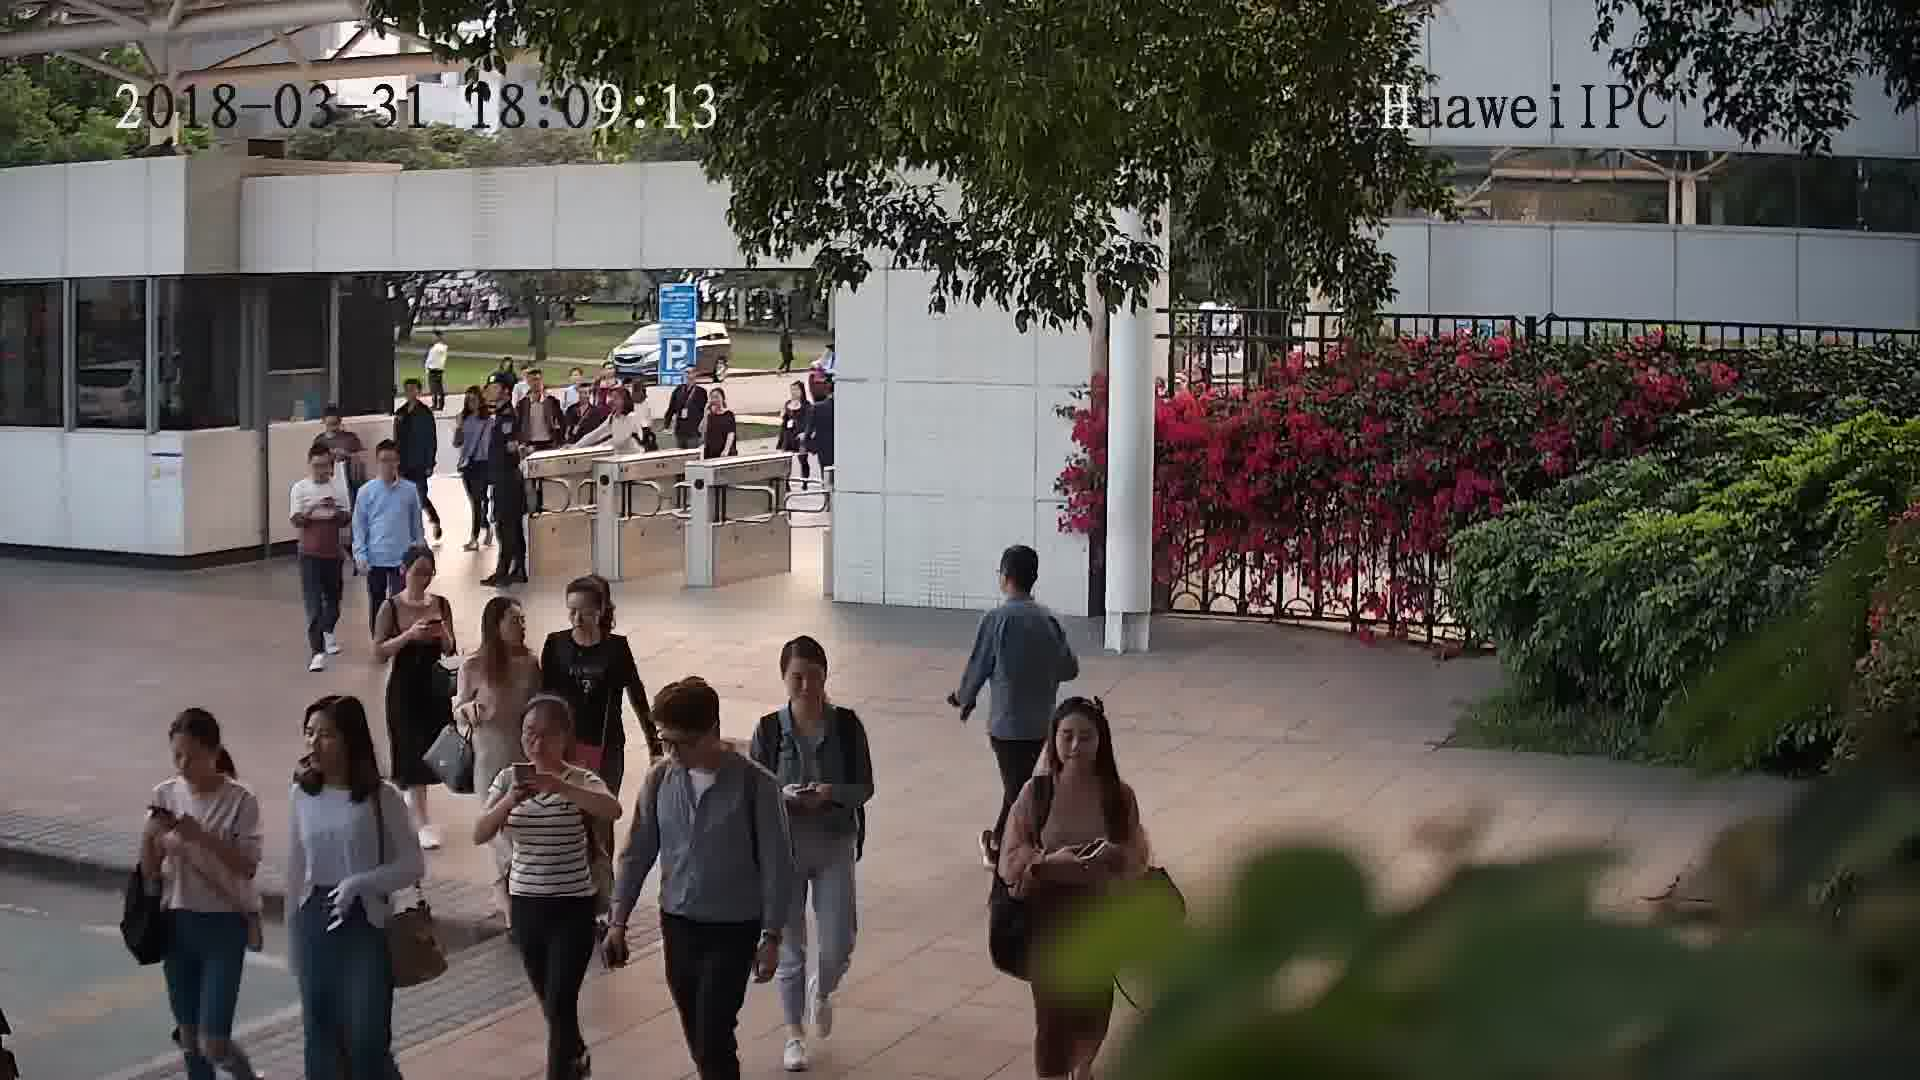face: (294, 708, 358, 772), (656, 714, 713, 771), (163, 726, 221, 784), (1049, 714, 1105, 770), (516, 709, 571, 764), (779, 656, 830, 707), (563, 588, 606, 638)
person: (1013, 693, 1141, 823), (646, 676, 781, 799), (286, 693, 406, 814), (755, 630, 869, 751), (149, 703, 260, 823), (490, 694, 615, 795), (544, 568, 633, 666), (984, 541, 1066, 642), (467, 591, 542, 678), (383, 542, 455, 617), (354, 440, 415, 501), (290, 441, 347, 498), (511, 366, 563, 416), (389, 373, 436, 424), (603, 387, 649, 438), (305, 403, 356, 447), (485, 370, 519, 428), (452, 380, 492, 430), (699, 387, 740, 427), (564, 384, 601, 427), (665, 365, 704, 401), (779, 379, 811, 418), (566, 366, 599, 401), (594, 359, 628, 388), (423, 329, 449, 357)
